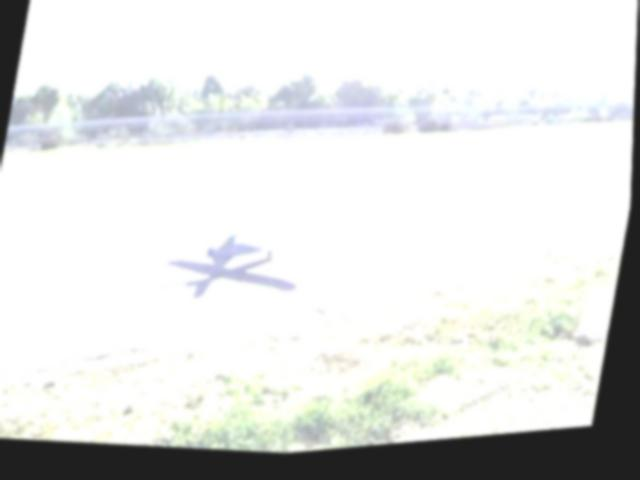iha: (182, 213, 321, 289)
